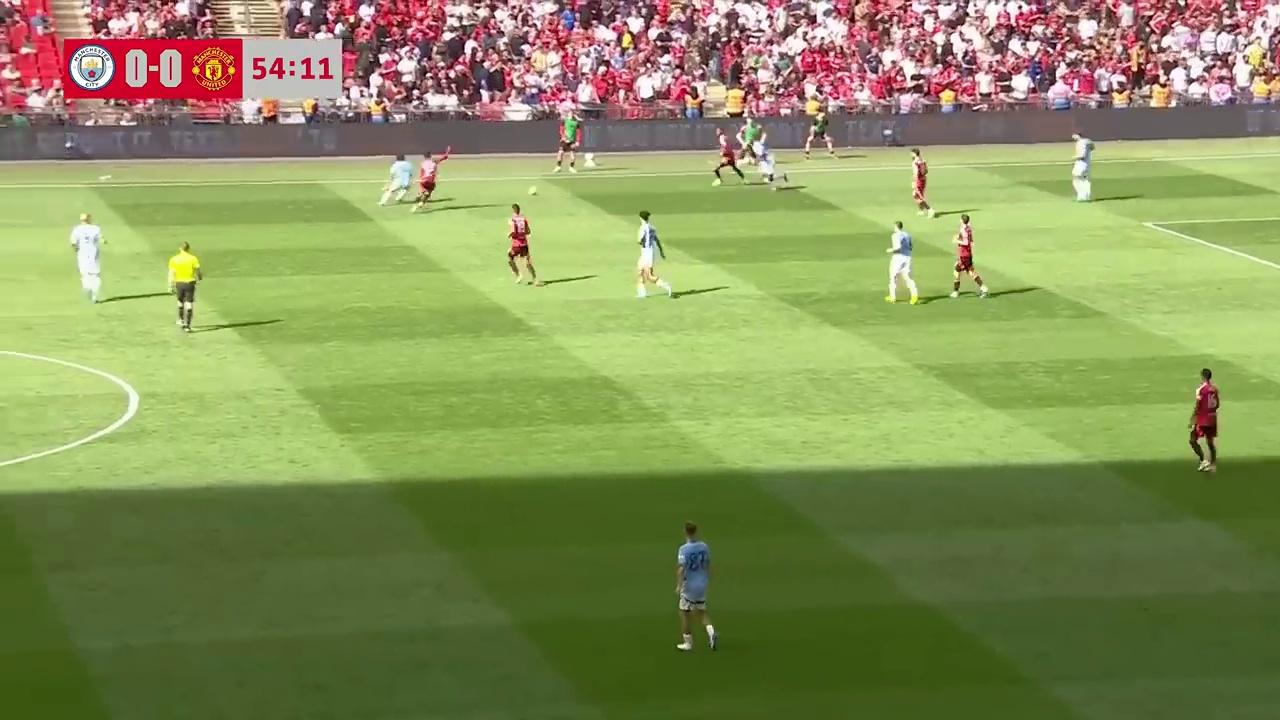player: (674, 521, 717, 653), (1188, 367, 1220, 473), (949, 213, 987, 299), (70, 213, 106, 303), (884, 220, 921, 305), (635, 213, 671, 298), (506, 203, 537, 286), (746, 133, 787, 193), (378, 155, 417, 207), (712, 132, 747, 185), (1071, 134, 1095, 202), (413, 153, 438, 211), (911, 149, 932, 217)
referee: (168, 242, 201, 332)
